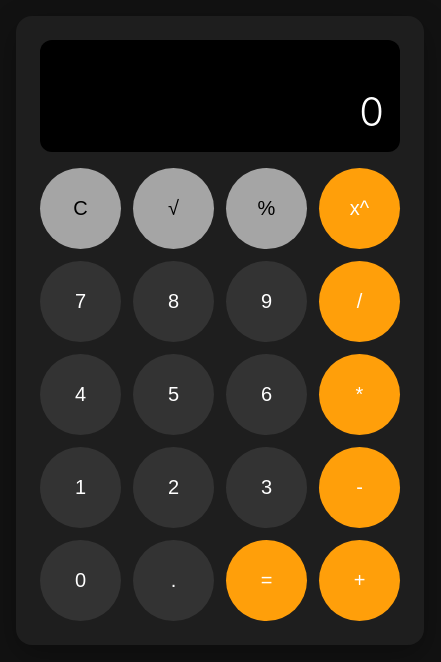
Test: Calculator › should calculate root of 144 and get 12
The width and height of the screenshot is (441, 662).
Click the button "1" at (80, 488), box [40,447,121,528]
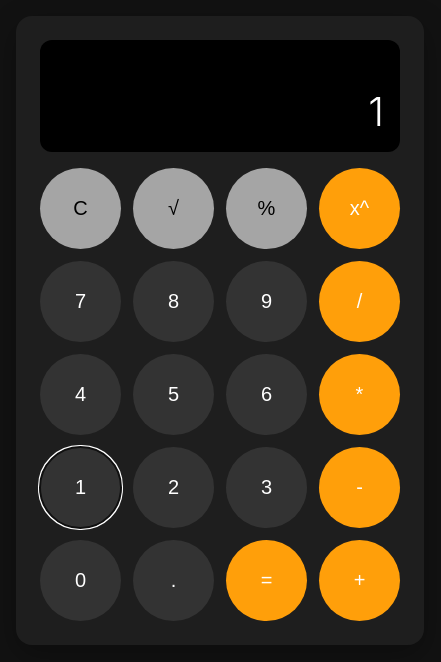
Click the button "4" at (80, 394), box [40,354,121,435]
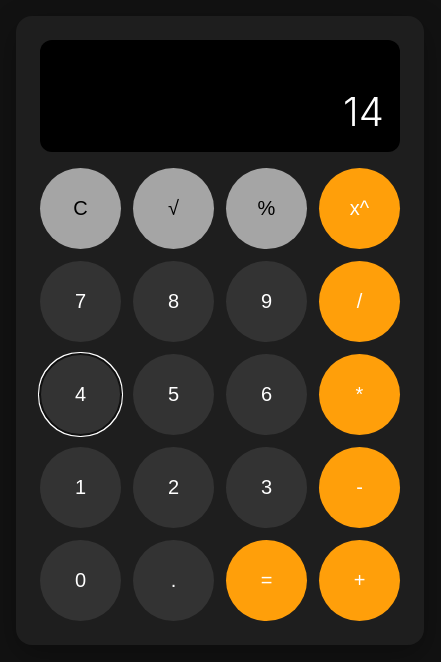
Click the button "4" at (80, 394), box [40,354,121,435]
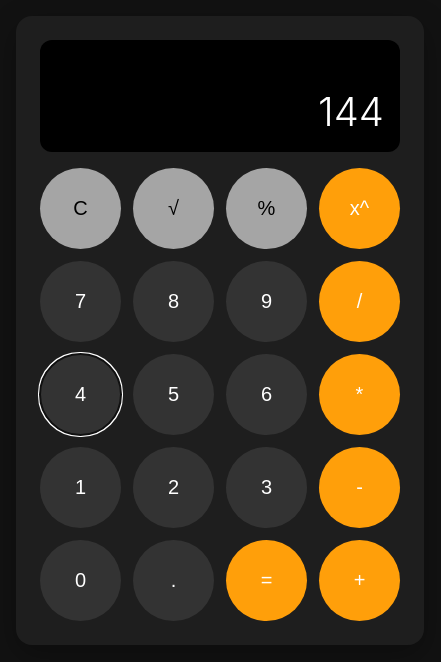
Click the button "√" at (174, 208), box [133,168,214,249]
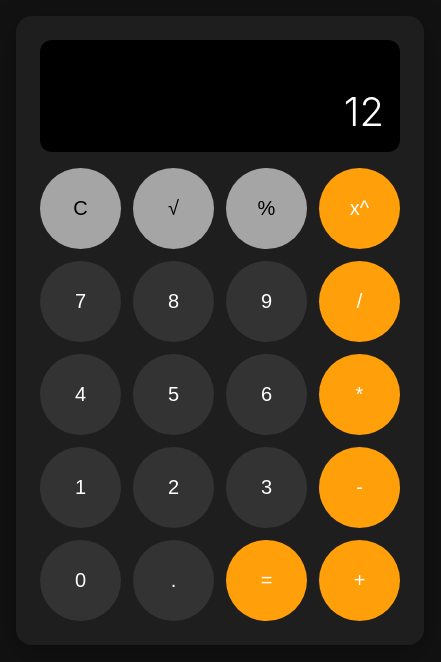
Expected: the text with test id "display-value" reads "12", [344,87,384,136]
